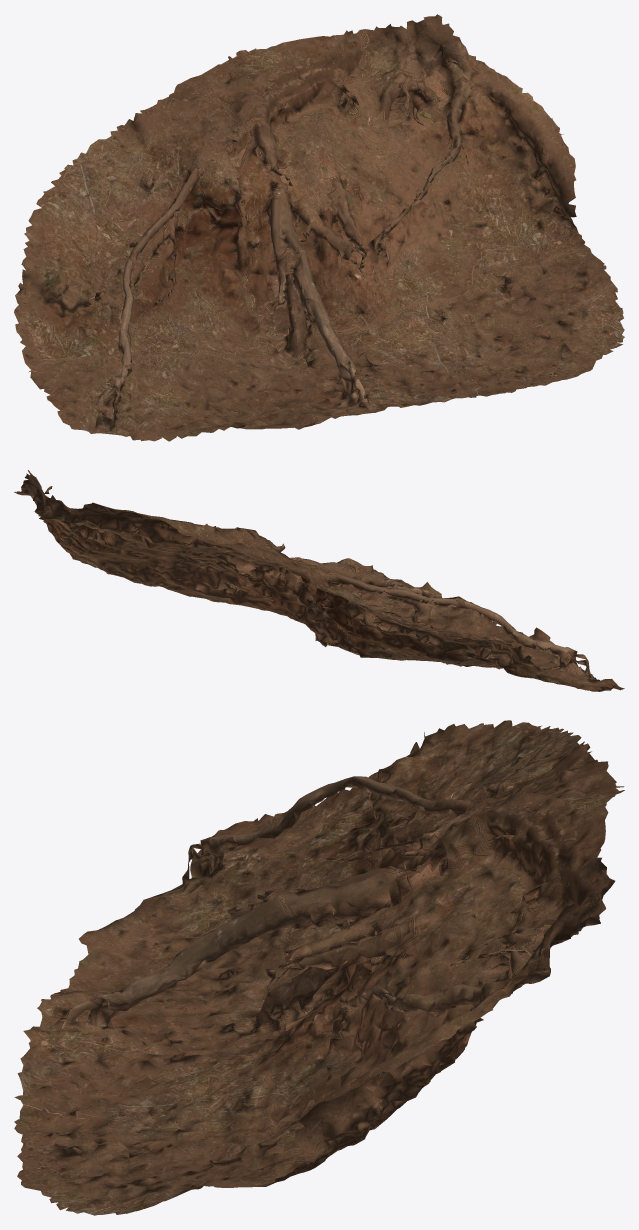
Rendered from root_cluster_01.glb.
3 views of the same model, one above another, from view 1: azimuth 30°, elevation 25°; view 2: azimuth 150°, elevation 25°; view 3: azimuth 270°, elevation 25° (orthographic). The views are drawn at different scales.
Visible parts, largest first — view 1: root_cluster_01; view 2: root_cluster_01; view 3: root_cluster_01.
Boxes of the visible parts, bbox=[...] form: root_cluster_01: bbox=[14, 14, 624, 441]; root_cluster_01: bbox=[14, 470, 624, 691]; root_cluster_01: bbox=[14, 720, 624, 1215].
Bounding box in the file's own units: 4.12 × 1.51 × 2.68.
Materials: 1 (1 with a texture image).
